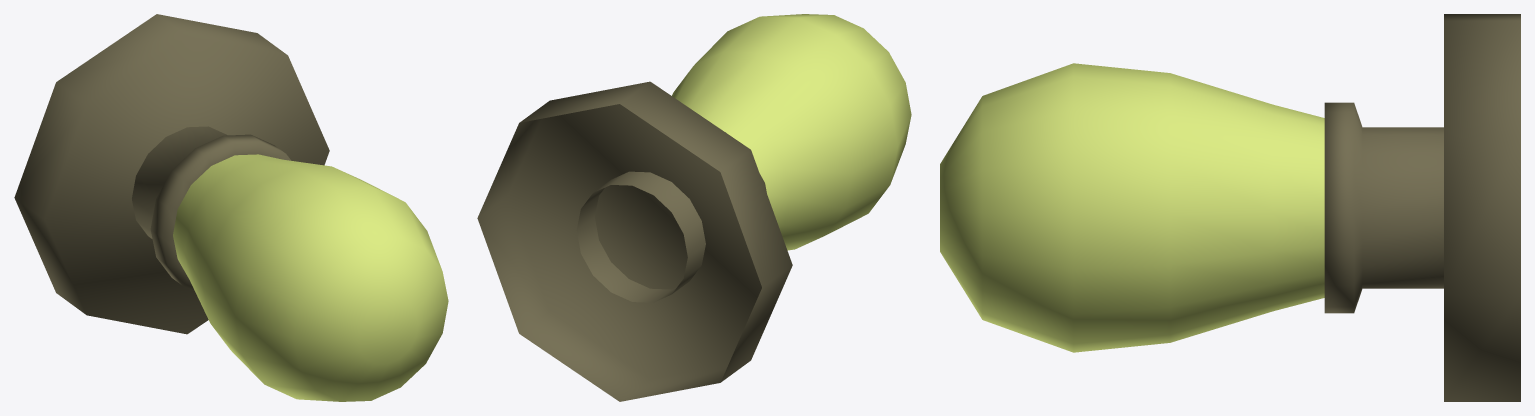
File: WallLight2.fbx
The picture shows the model from 3 angles, left to right: view 1: azimuth 30°, elevation 25°; view 2: azimuth 150°, elevation 25°; view 3: azimuth 270°, elevation 25°; orthographic projection. The views are drawn at different scales.
Visible parts, largest first — view 1: Cylinder.027; view 2: Cylinder.027; view 3: Cylinder.027.
Boxes of the visible parts, box(x1,y1,x2,y2) form: Cylinder.027: box(14, 14, 448, 401); Cylinder.027: box(477, 14, 911, 401); Cylinder.027: box(940, 14, 1520, 401).
Bounding box in the file's own units: 35.9 × 35.9 × 50.5.
